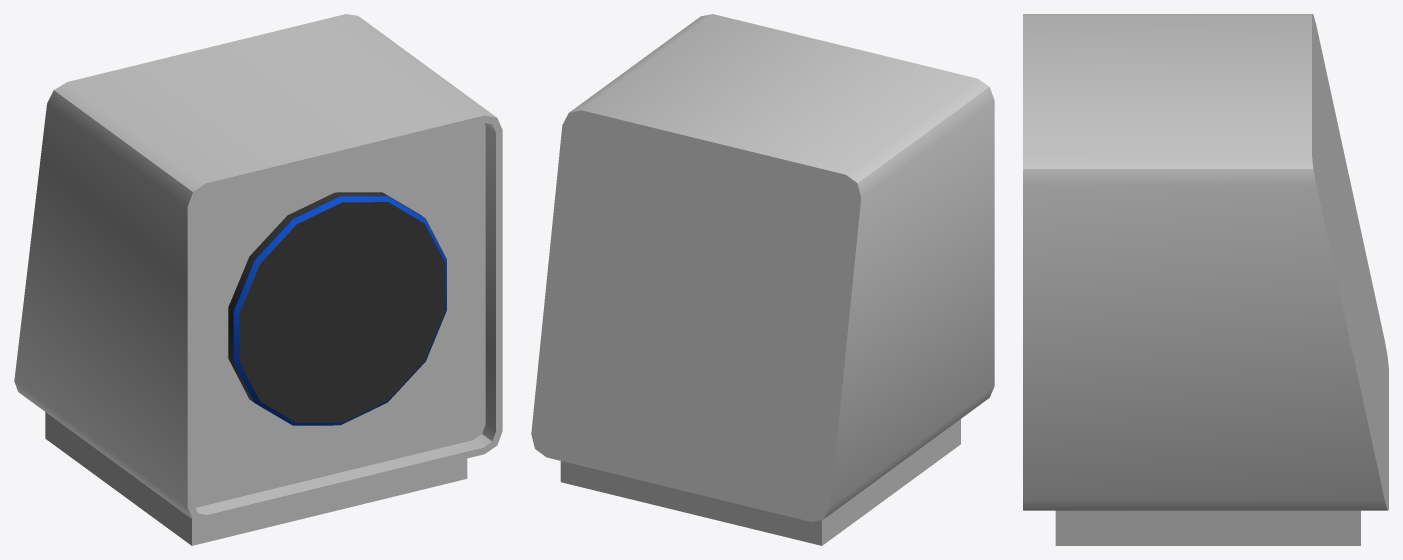
Rendered from Speaker_3.obj.
3 renders of one model, left to right at view 1: azimuth 30°, elevation 25°; view 2: azimuth 150°, elevation 25°; view 3: azimuth 270°, elevation 25°, orthographic. The views are drawn at different scales.
Parts seen in each view (by area): view 1: Speaker_3; view 2: Speaker_3; view 3: Speaker_3.
Boxes of the visible parts, x1,y1,x2,y2 form: Speaker_3: (14, 14, 502, 545); Speaker_3: (531, 14, 994, 545); Speaker_3: (1023, 14, 1388, 545).
Size of the model in its own units: 0.11 by 0.1249 by 0.1061.
